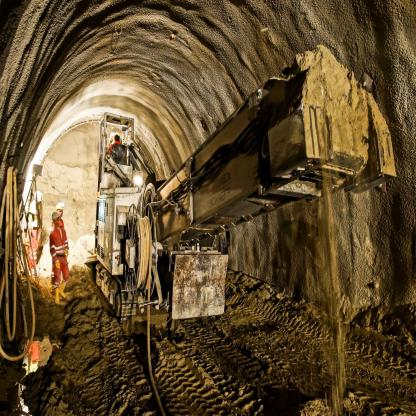person: (46, 194, 76, 309)
